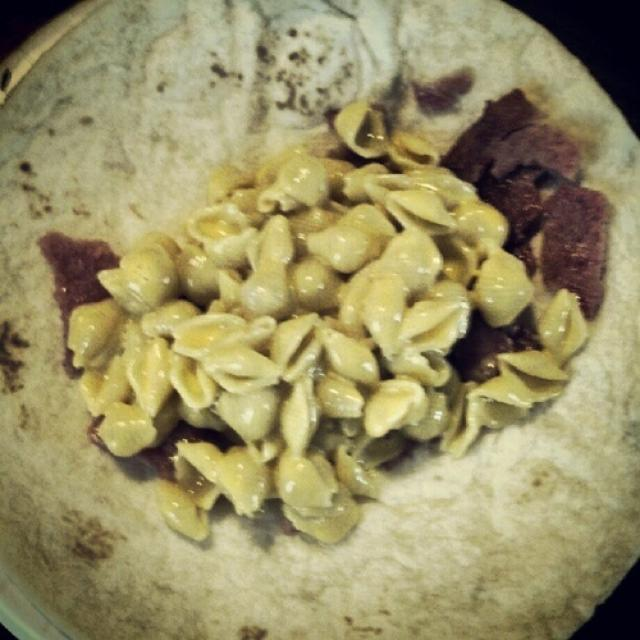面包点心: (40, 47, 626, 584)
